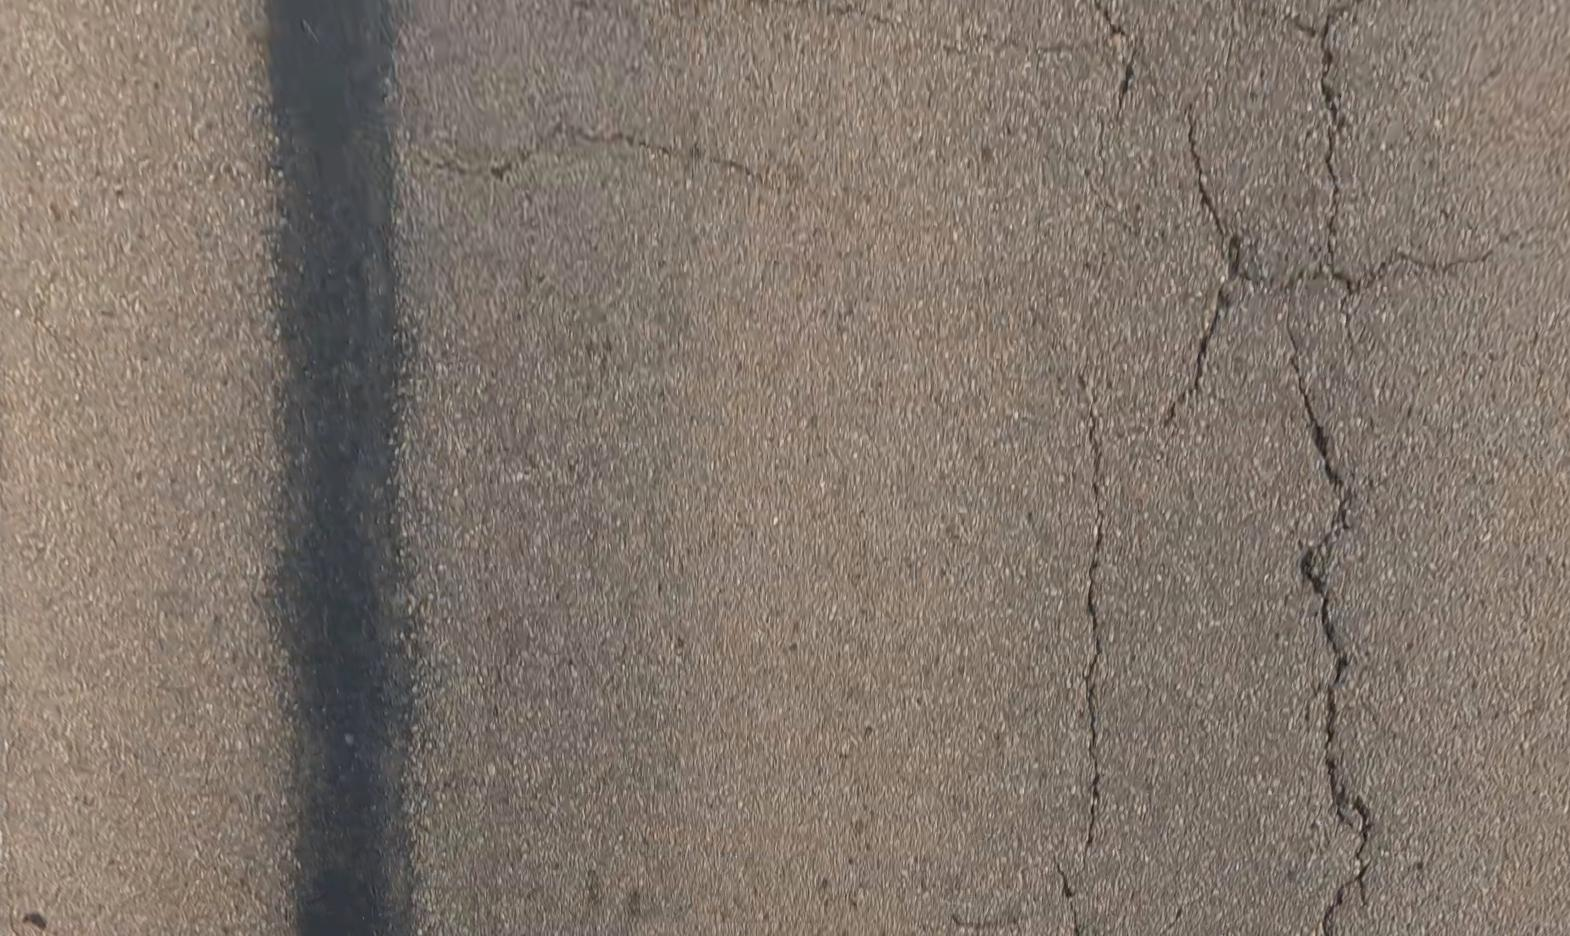pothole_patch_good: (266, 0, 412, 935)
